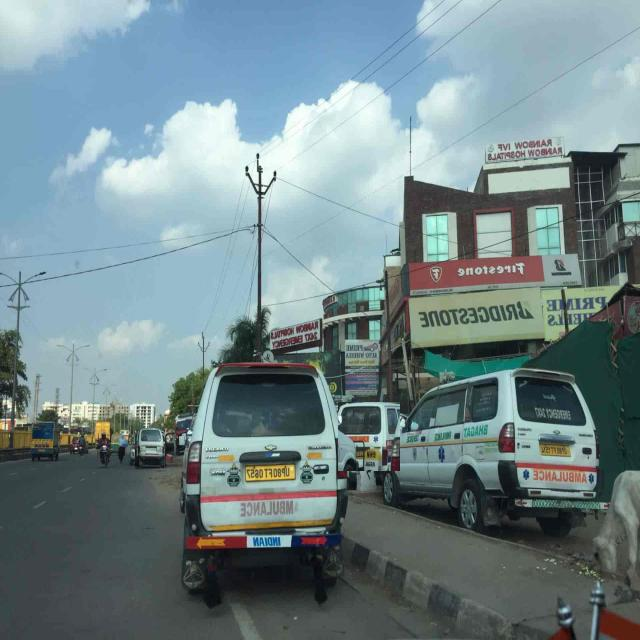car: (135, 429, 165, 468)
emergency: (181, 363, 348, 602), (380, 368, 606, 534), (338, 403, 400, 471)
motorcycle: (98, 433, 110, 467)
truck: (31, 422, 60, 460)
